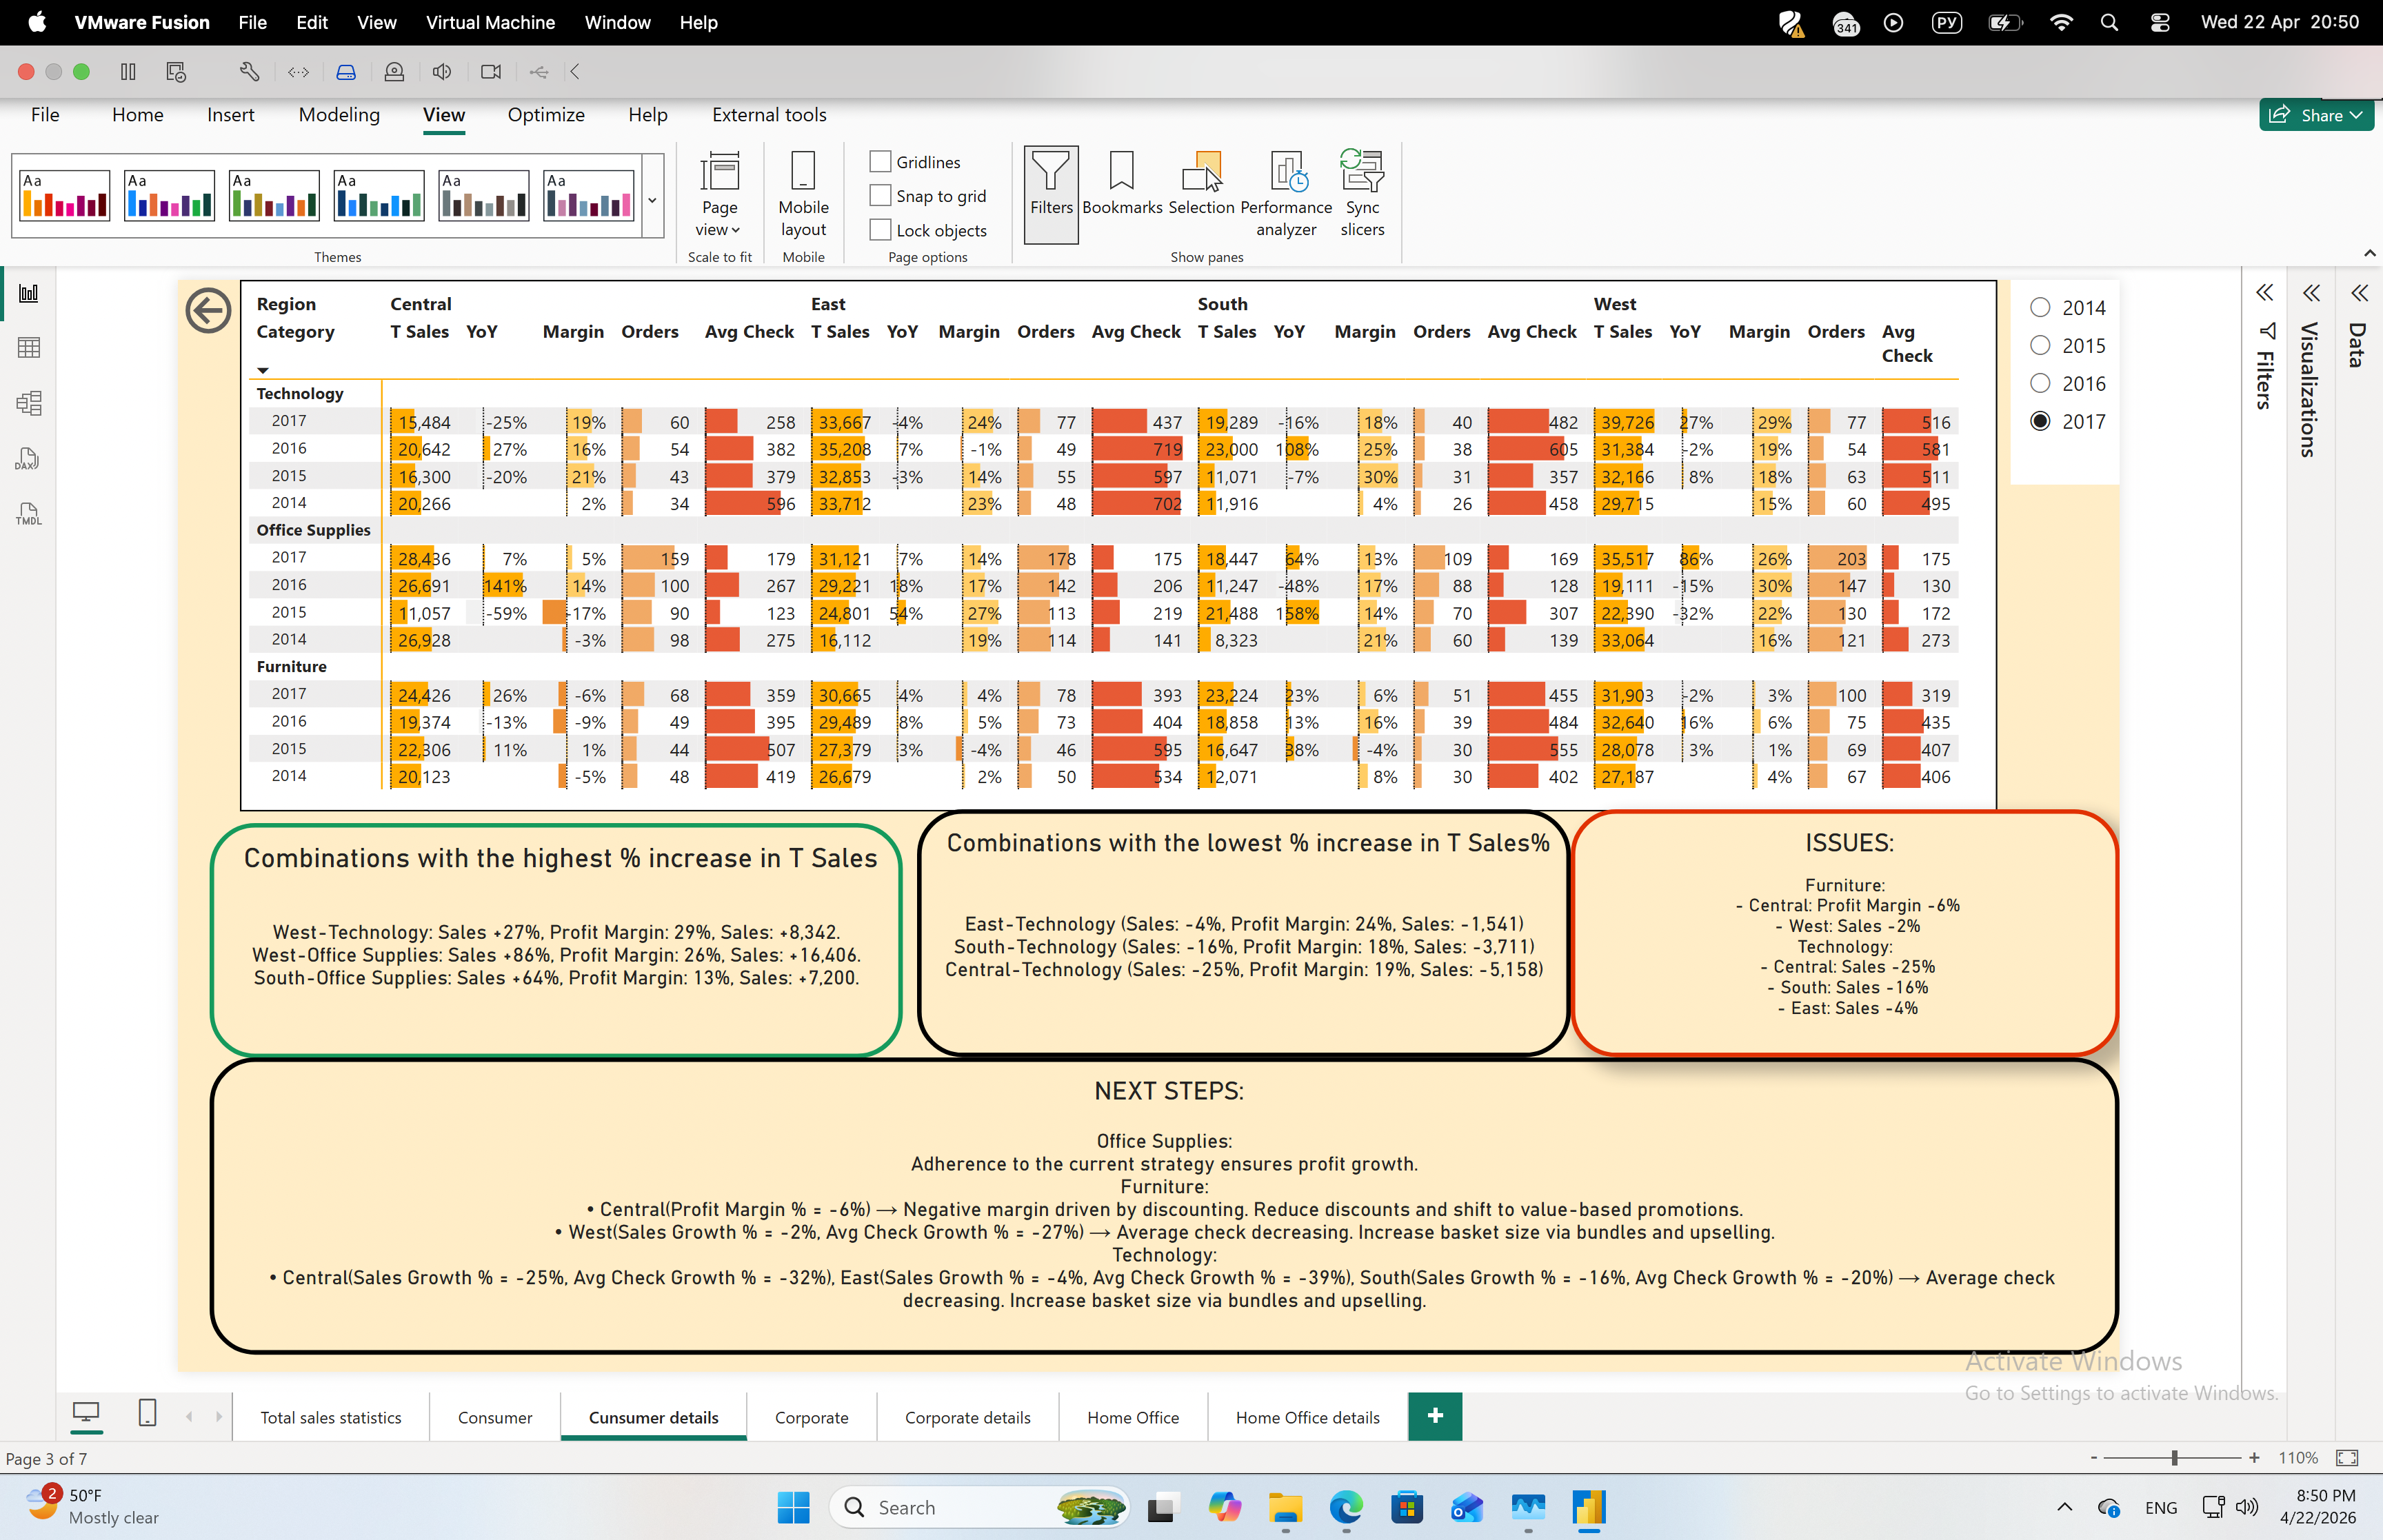

What the dashboard file says about the page in this screenshot:
{"tool":"powerbi","page":{"name":"Cunsumer details","canvas":[1280,720],"ordinal":2},"visuals":[{"type":"pivotTable","title":"KPI","fields":{"Columns":["Sales.Region"],"Values":["_Measures.Total Sales","_Measures.YoY_Growth","_Measures.Profit Margin","_Measures.Distinct Orders","_Measures.Avg Check"],"Rows":["Sales.Category","DateTable.Year"]},"box":[40.9,0,1158.6,350.7],"z":0},{"type":"card","title":"Combinations with the highest % increase in T Sales","fields":{"Values":["_Measures.Top 3 Combos Detailed"]},"box":[21.1,358.1,457.2,154.9],"z":1000},{"type":"card","title":"Combinations with the lowest % increase in T Sales%","fields":{"Values":["_Measures.Bottom 3 Combos Detailed"]},"box":[487,349.4,431.2,163.6],"z":2000},{"type":"card","title":"ISSUES:","fields":{"Values":["_Measures.Decline Insight"]},"box":[918.2,349.4,361.8,163.6],"z":3000},{"type":"card","title":"NEXT STEPS:","fields":{"Values":["_Measures.Next_Steps"]},"box":[21.1,513,1258.9,195.8],"z":4000},{"type":"actionButton","box":[0,0,41.3,40.4],"z":5000},{"type":"slicer","fields":{"Values":["DateTable.Year"]},"box":[1208.1,0,71.9,135.1],"z":5500}]}

Visuals, with their boxes on the page's 1280x720 design canvas (x1, y1, x2, y2). These are canvas units, not pixel positions in the 2383x1540 screenshot, which may show the page scaled, cropped or inside an application window:
"KPI" pivotTable: locate(41, 0, 1200, 351)
"Combinations with the highest % increase in T Sales" card: locate(21, 358, 478, 513)
"Combinations with the lowest % increase in T Sales%" card: locate(487, 349, 918, 513)
"ISSUES:" card: locate(918, 349, 1280, 513)
"NEXT STEPS:" card: locate(21, 513, 1280, 709)
actionButton: locate(0, 0, 41, 40)
slicer - DateTable.Year: locate(1208, 0, 1280, 135)
